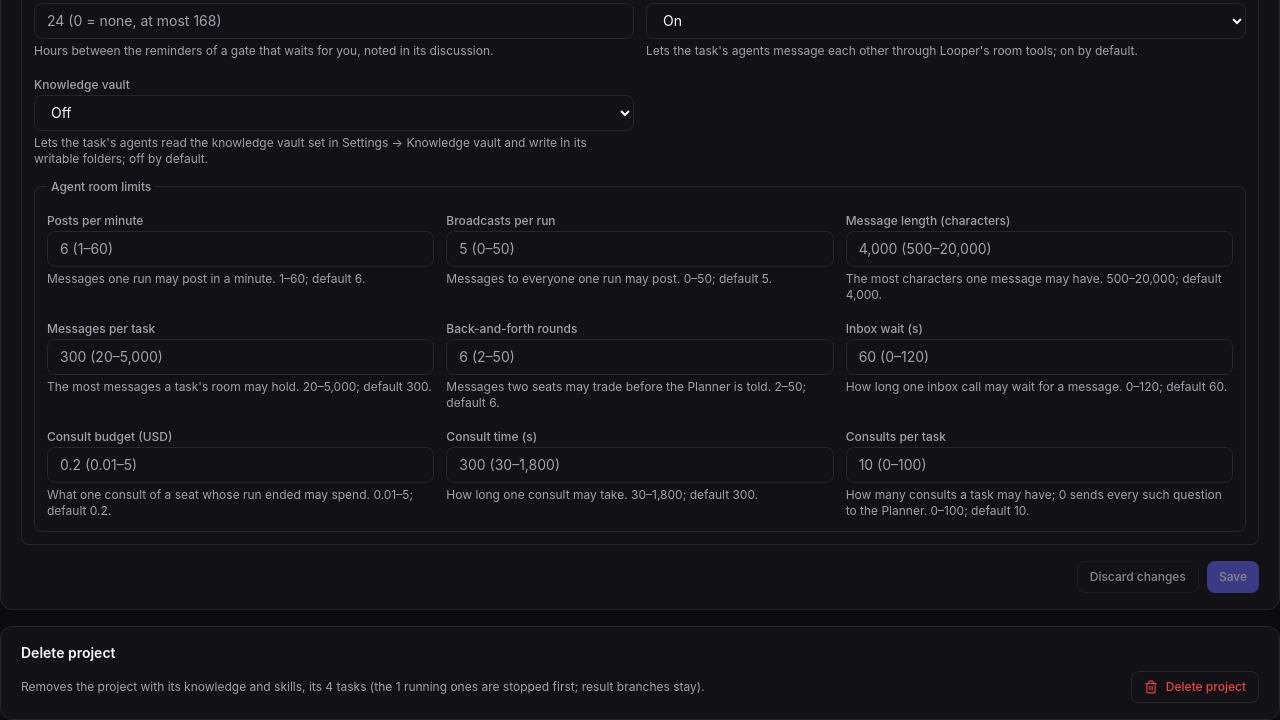
Test: project deletion › confirms through deleteProject, shows its pending state, then refreshes selectors and navigates
(page scrolled)
Click the button "Delete project".
click(1195, 686)  # box [1131,670,1259,702]
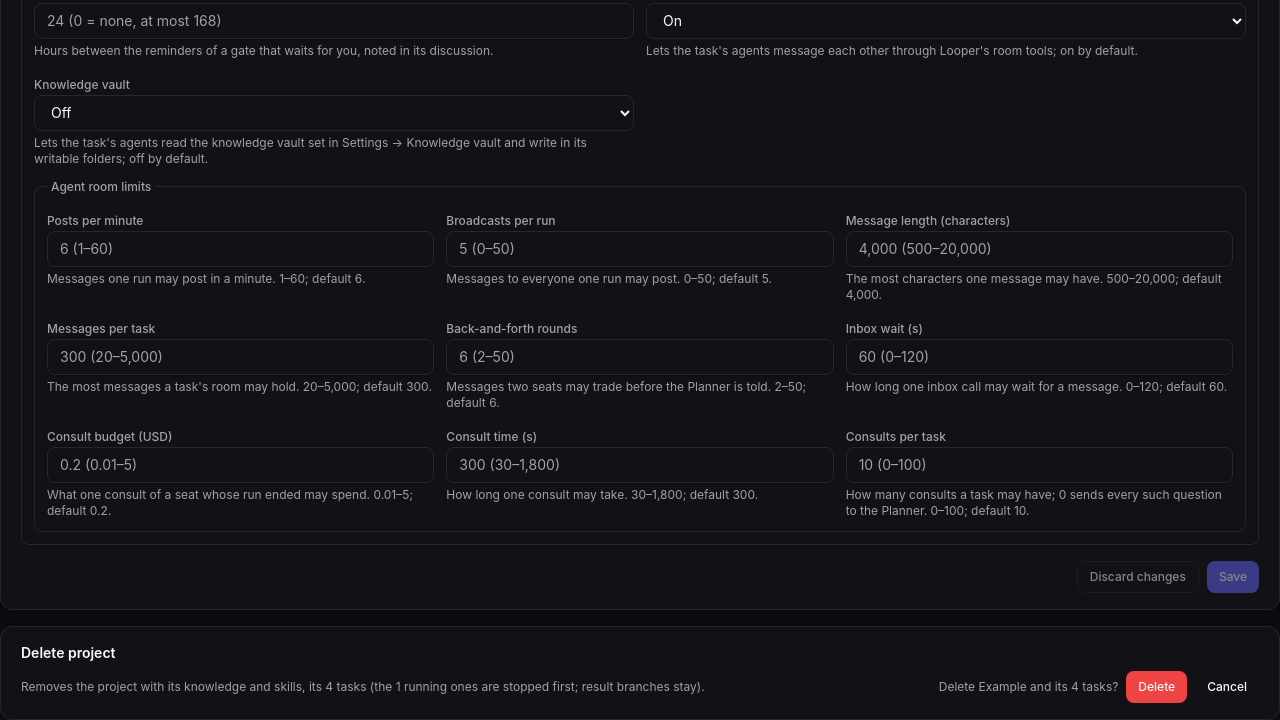
Click the button "Delete".
click(1157, 686)  # box [1126,670,1187,702]
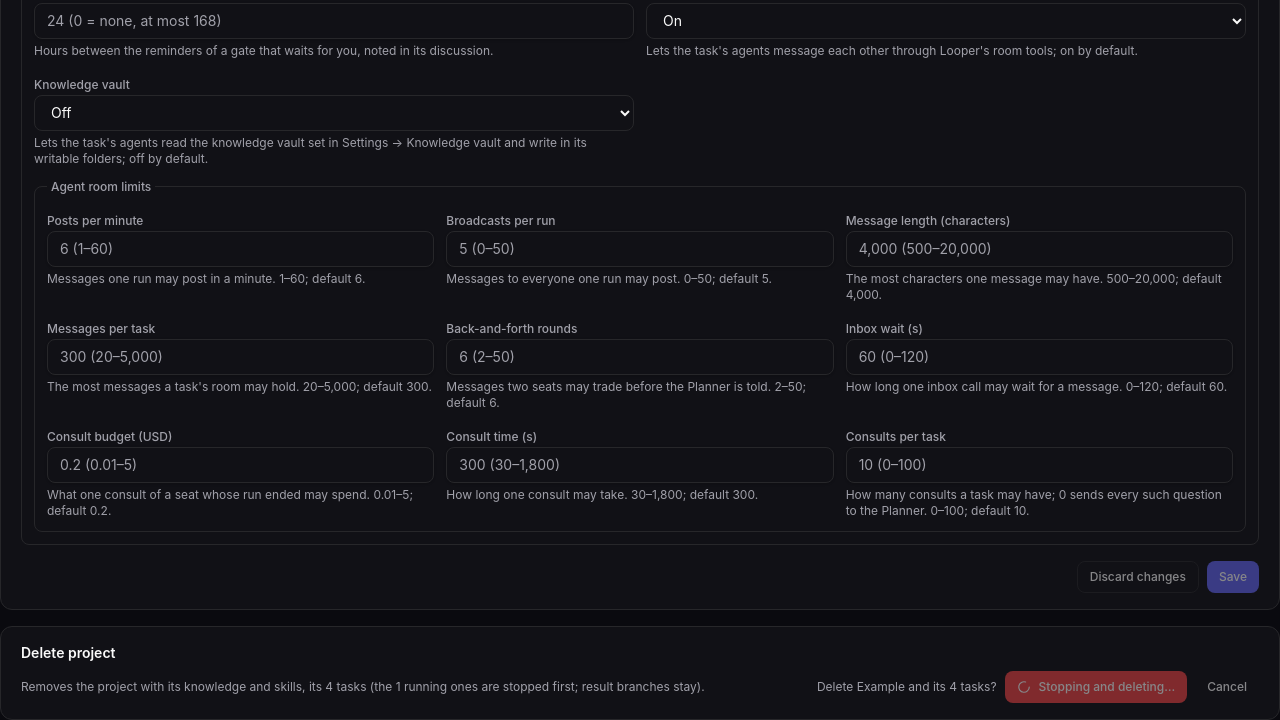
Expected: the button "Stopping and deleting…" is disabled, [1005,670,1187,702]
Expected: the icon with class "animate-spin" is shown, [1017,680,1031,694]
